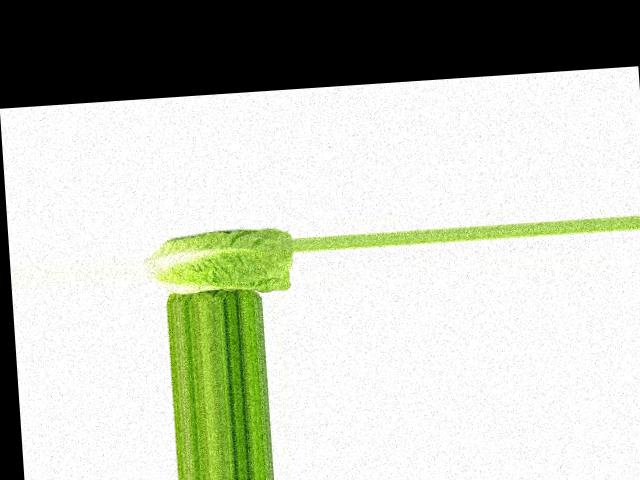lettuce: (141, 216, 297, 297)
